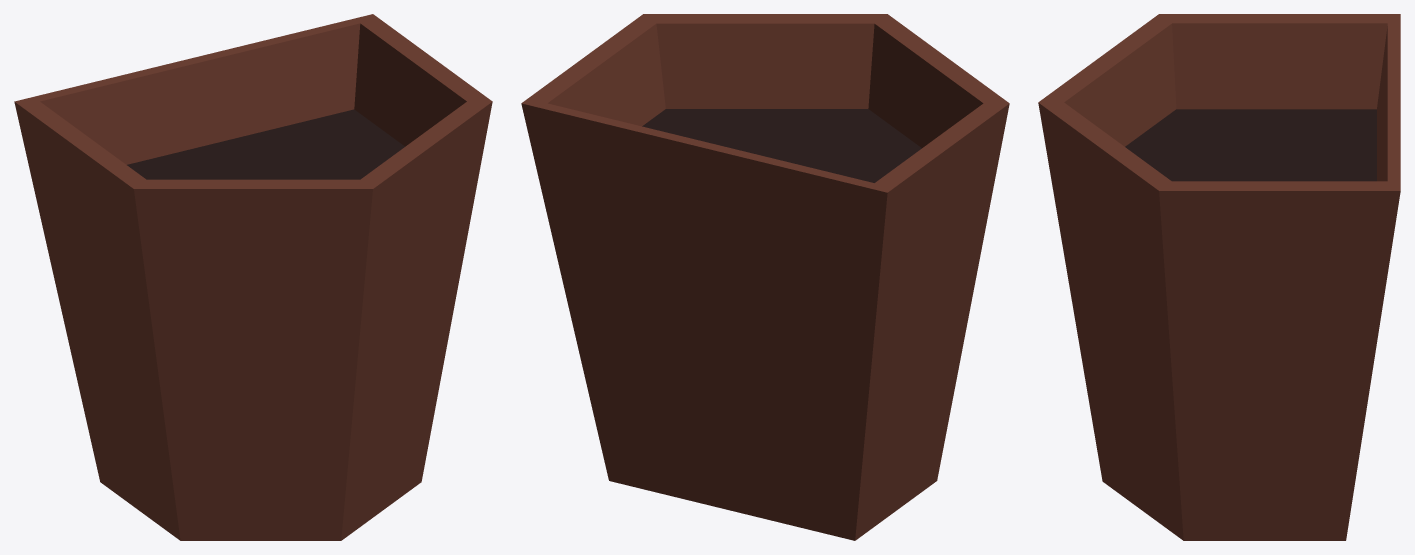
File: MBJ_PlantPack01_Pot05_LOD1_v001.fbx
3 renders of one model, left to right at view 1: azimuth 30°, elevation 25°; view 2: azimuth 150°, elevation 25°; view 3: azimuth 270°, elevation 25°, orthographic. The views are drawn at different scales.
Visible parts, largest first — view 1: PlantPot05_A.001; view 2: PlantPot05_A.001; view 3: PlantPot05_A.001.
Part boxes in pixels (box(x1,y1,x2,y2)): PlantPot05_A.001: box(14, 14, 492, 540); PlantPot05_A.001: box(521, 14, 1009, 540); PlantPot05_A.001: box(1038, 14, 1400, 540).
Size of the model in its own units: 46.06 by 46.02 by 39.89.
